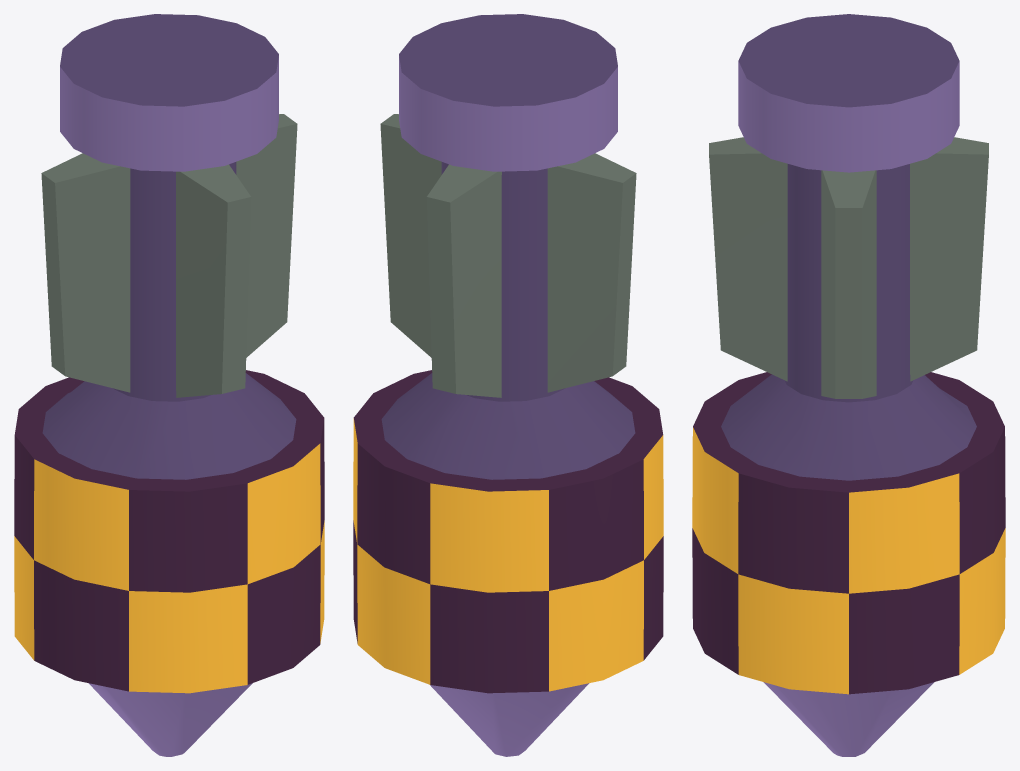
Rendered from nuke.glb.
The picture shows the model from 3 angles, left to right: view 1: azimuth 30°, elevation 25°; view 2: azimuth 150°, elevation 25°; view 3: azimuth 270°, elevation 25°; orthographic projection.
Parts seen in each view (by area): view 1: Bomb03; view 2: Bomb03; view 3: Bomb03.
Part boxes in pixels (left/top/right/bottom): Bomb03: left=14, top=14, right=324, bottom=756; Bomb03: left=353, top=14, right=663, bottom=756; Bomb03: left=692, top=14, right=1005, bottom=756.
Size of the model in its own units: 0.2543 by 0.6211 by 0.2543.
Materials: 1 (1 with a texture image).
